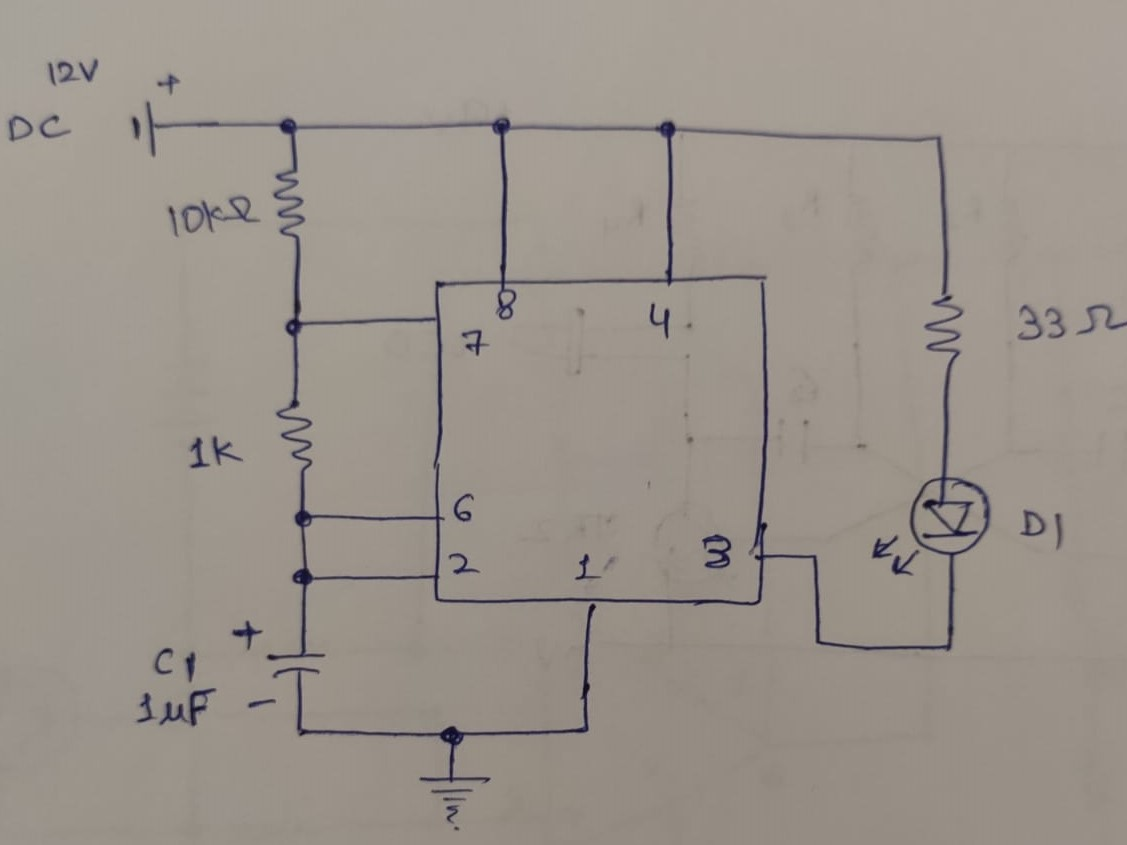capacitor.polarized: (233, 615, 324, 711)
diode.light_emitting: (868, 473, 993, 578)
gnd: (421, 772, 490, 830)
integrated_circuit: (426, 263, 785, 623)
junction: (272, 114, 310, 140), (278, 313, 312, 342), (486, 114, 521, 139), (290, 563, 320, 590), (651, 118, 685, 141), (440, 718, 465, 749), (925, 126, 952, 154), (569, 716, 600, 740), (290, 503, 317, 530), (284, 718, 314, 741), (804, 548, 827, 570), (937, 636, 959, 659), (808, 629, 832, 650)
resistor: (926, 283, 966, 366), (271, 158, 309, 243), (276, 394, 318, 467)
text: (137, 641, 205, 731), (1018, 298, 1123, 342), (167, 196, 257, 237), (4, 111, 72, 144), (45, 53, 103, 88), (1022, 504, 1067, 546), (191, 434, 242, 468), (446, 550, 478, 582), (491, 288, 522, 320), (705, 535, 732, 567), (460, 325, 484, 360), (576, 548, 598, 586), (650, 300, 671, 337), (454, 492, 474, 526)
voltage.dc: (127, 72, 182, 160)
